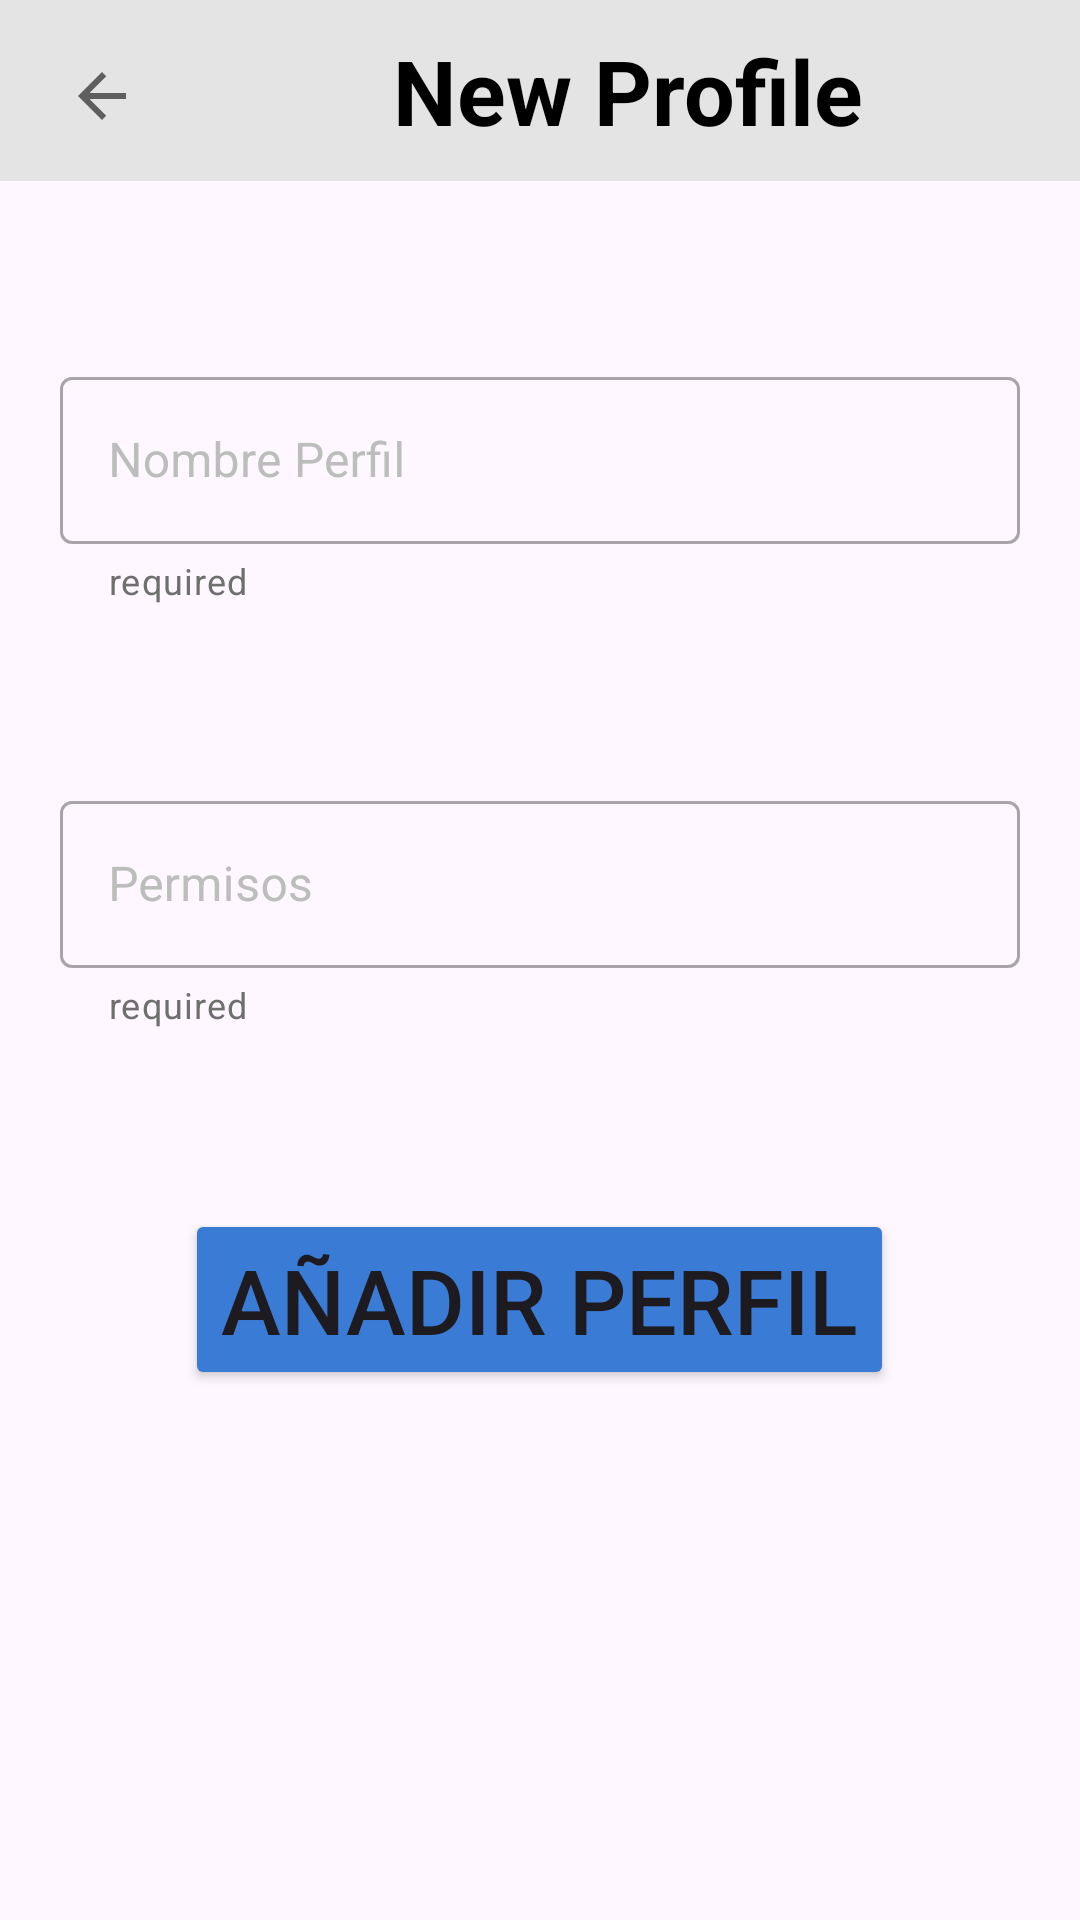

Icon click points for this 1080w x 1920h phone screenshot, format (x,y):
back: (102,96)
